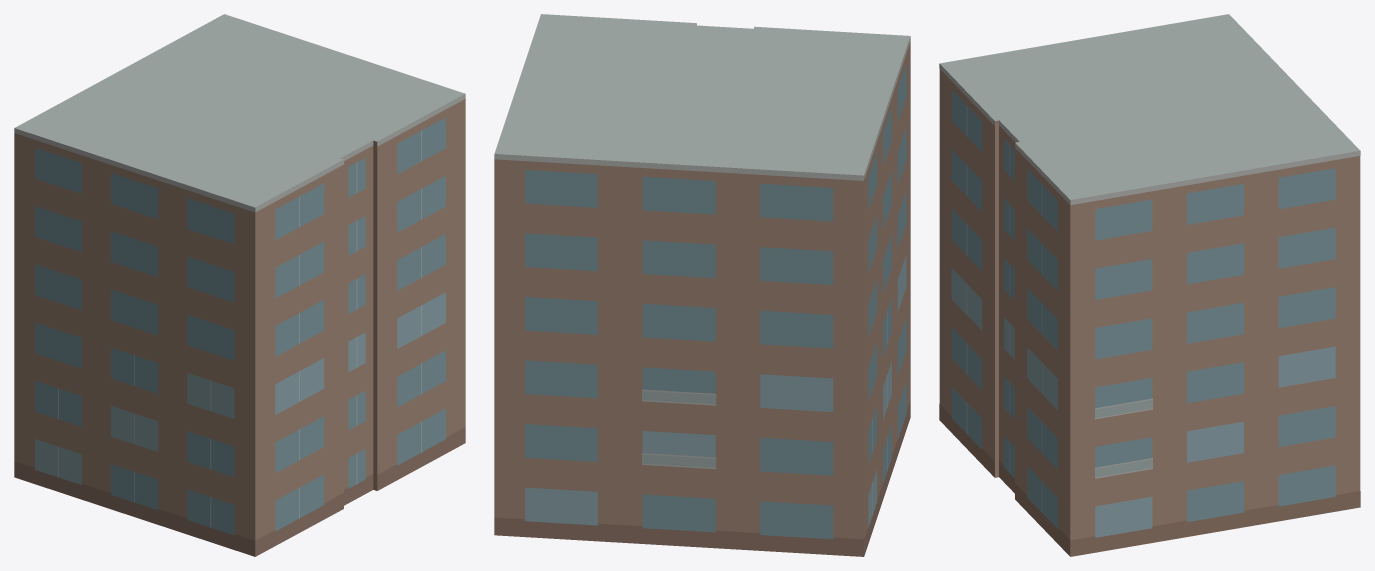
File: survey-upis-32845571.glb
3 renders of one model, left to right at view 1: azimuth 30°, elevation 25°; view 2: azimuth 150°, elevation 25°; view 3: azimuth 270°, elevation 25°, orthographic. The views are drawn at different scales.
Visible parts, largest first — view 1: survey-upis-32845571.tmp; view 2: survey-upis-32845571.tmp; view 3: survey-upis-32845571.tmp.
Part boxes in pixels (x1,y1,x2,y2): survey-upis-32845571.tmp: (14,14,465,556); survey-upis-32845571.tmp: (494,14,910,556); survey-upis-32845571.tmp: (939,14,1360,556).
Bounding box in the file's own units: 19.32 × 17.25 × 18.46.
